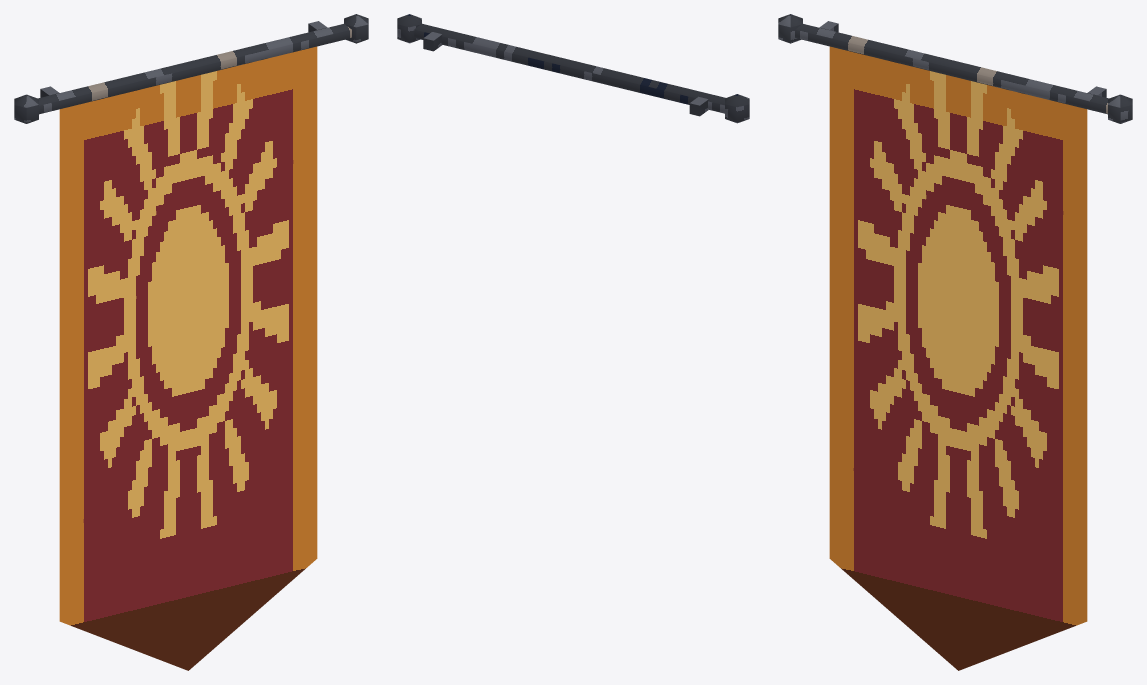
The model's file is dprop.banner__point.glb.
3 views of the same model, side by side, from view 1: azimuth 30°, elevation 25°; view 2: azimuth 150°, elevation 25°; view 3: azimuth 330°, elevation 25° (orthographic).
Visible parts, largest first — view 1: kit_card_cloth, kit_rod; view 2: kit_rod; view 3: kit_card_cloth, kit_rod.
Part boxes in pixels (x1,y1,x2,y2): kit_card_cloth: [59, 46, 317, 670]; kit_rod: [14, 14, 368, 123]; kit_rod: [397, 14, 749, 123]; kit_card_cloth: [829, 46, 1087, 670]; kit_rod: [778, 14, 1132, 123].
Size of the model in its own units: 1.38 by 2.29 by 0.1213.
Materials: 2 (2 with a texture image).
